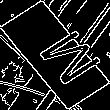M_SW: (17, 21, 93, 89)
